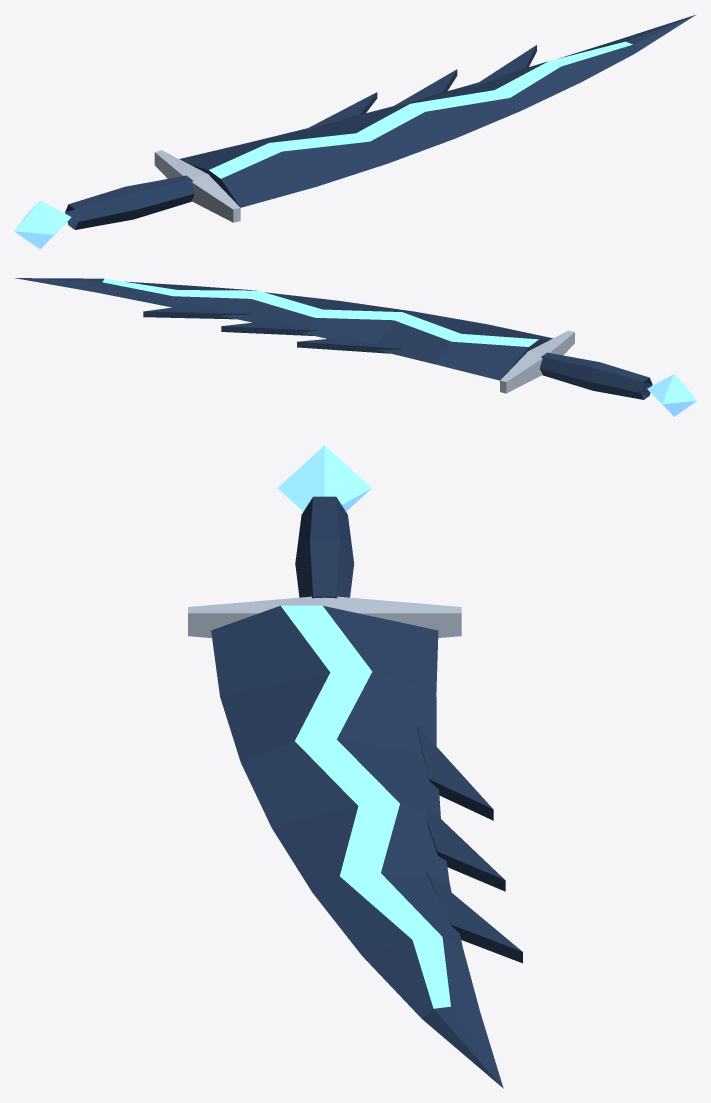
Rendered from volt-blade.glb.
3 views of the same model, one above another, from view 1: azimuth 30°, elevation 25°; view 2: azimuth 150°, elevation 25°; view 3: azimuth 270°, elevation 25° (orthographic). The views are drawn at different scales.
Parts seen in each view (by area): view 1: VOLT_BLADE; view 2: VOLT_BLADE; view 3: VOLT_BLADE.
Part boxes in pixels (left/top/right/bottom): VOLT_BLADE: left=14, top=15, right=695, bottom=249; VOLT_BLADE: left=15, top=278, right=696, bottom=416; VOLT_BLADE: left=188, top=445, right=522, bottom=1088.
Bounding box in the file's own units: 1.4 × 0.09 × 0.3184.
